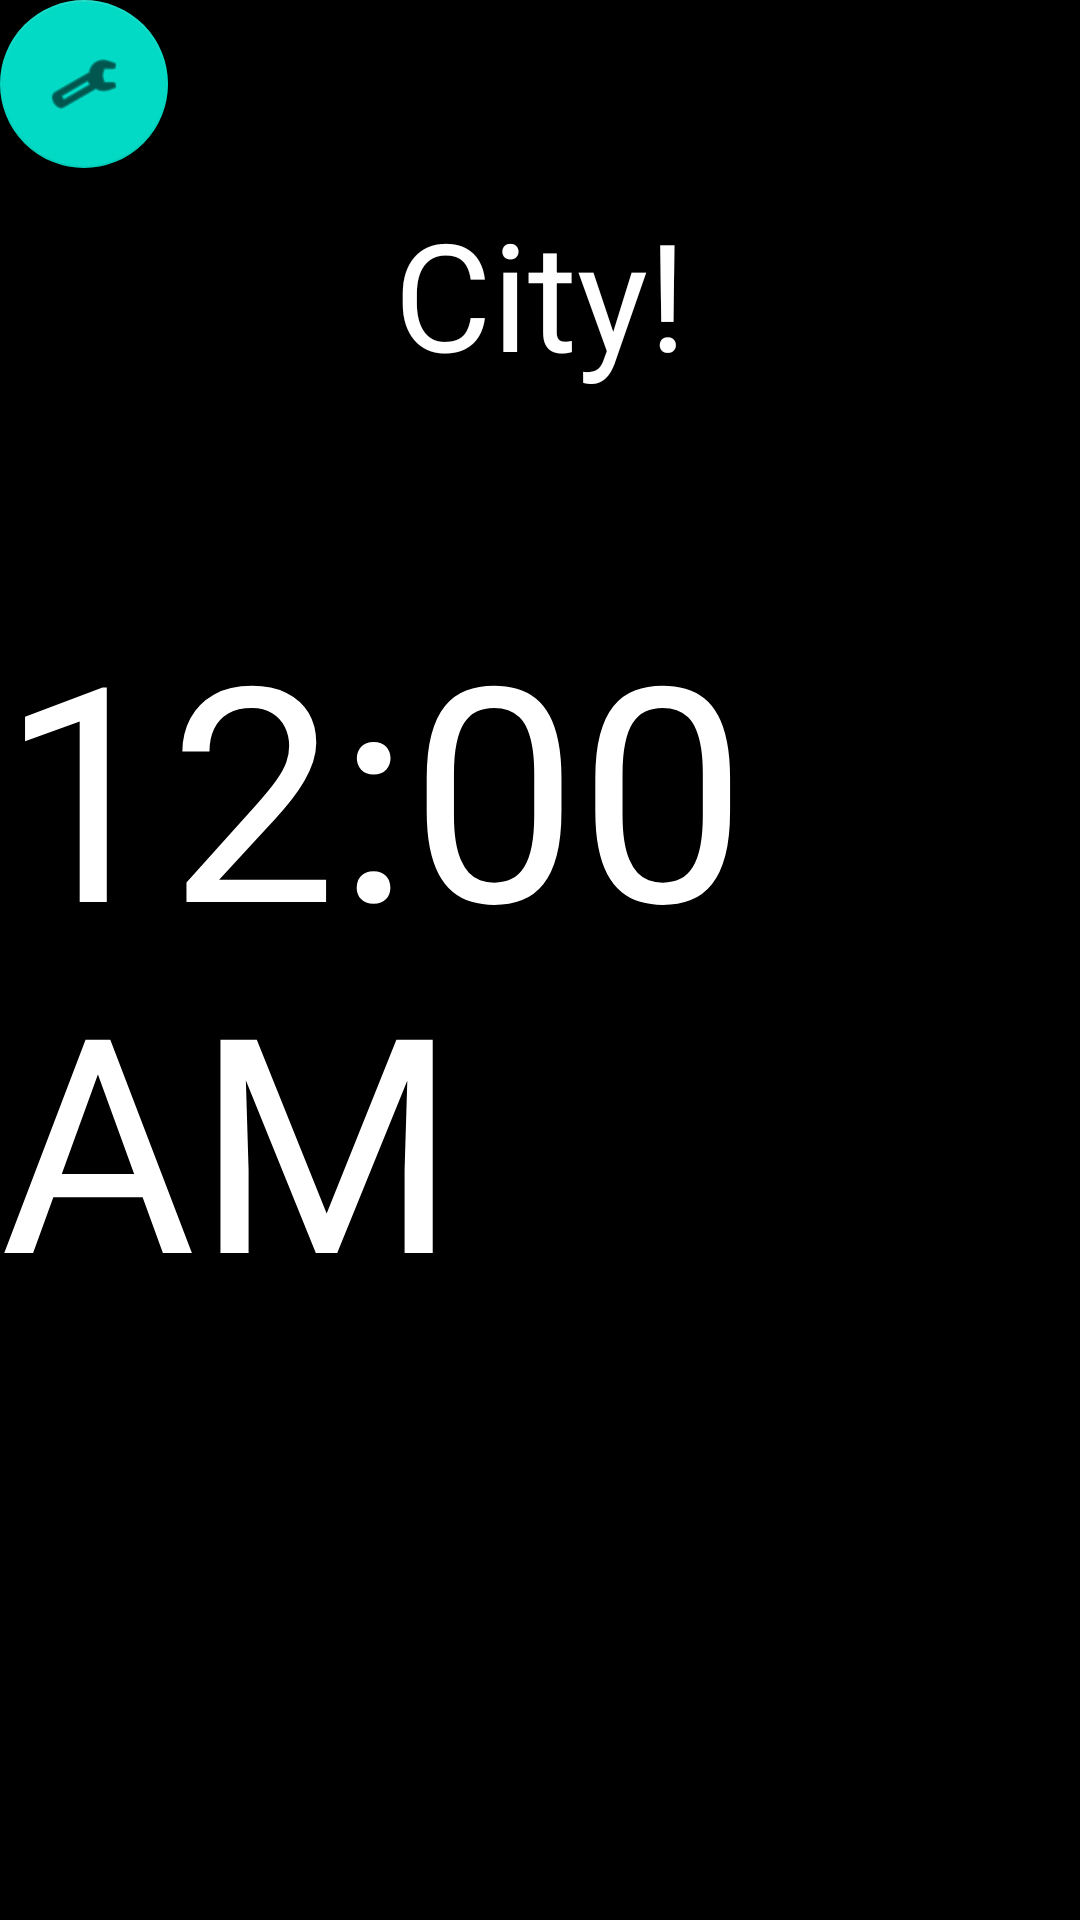

Icons on this 1080*1920 Android screen, each with the point to tap as (x=x, y=y):
manage: (x=84, y=84)
